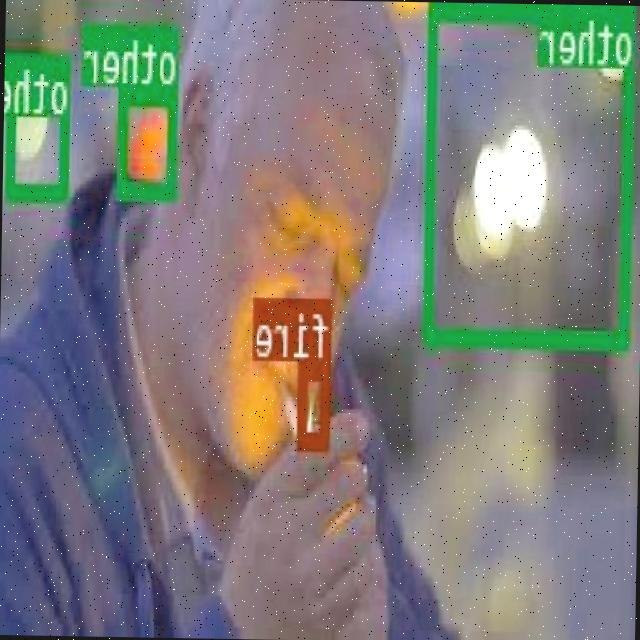fire: (297, 358, 332, 447)
